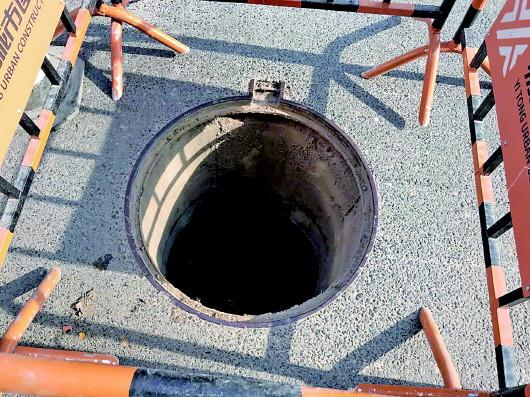lose: (117, 92, 384, 327)
